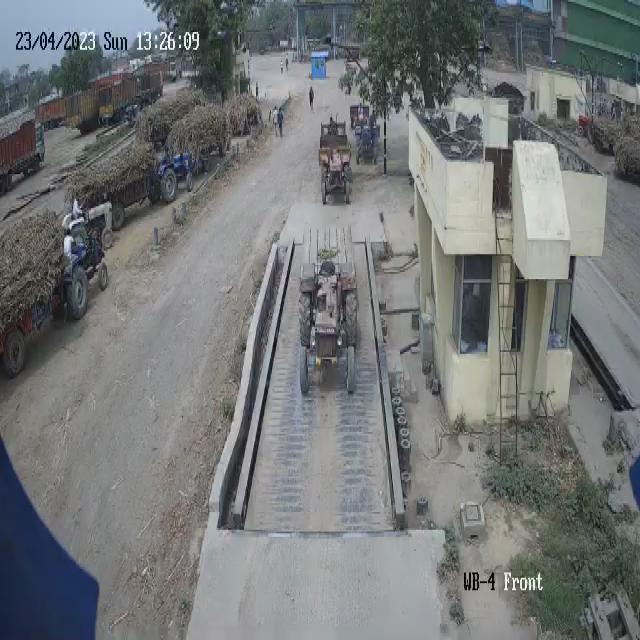Tratores - v5 YOLO V8L 2024-11-13: (292, 249, 363, 403), (53, 225, 117, 312), (152, 128, 194, 208), (316, 130, 352, 209), (350, 106, 383, 170)
